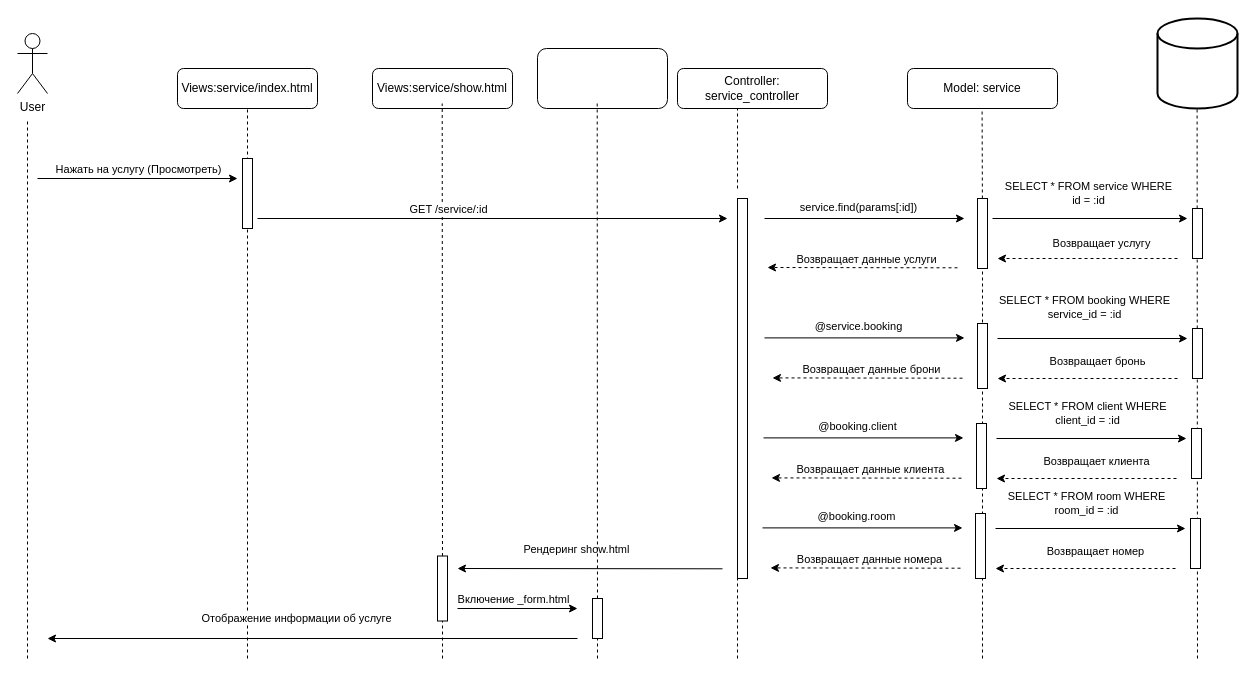
Some shapes in this 1256 by 677 pixel diagram are drawn without their labels. The shapes that lost their labels are listed below. From the top down, each one's centre as x and y in pixels, then its label:
point (602, 78): Views: service /_form.html
point (1197, 63): DB
